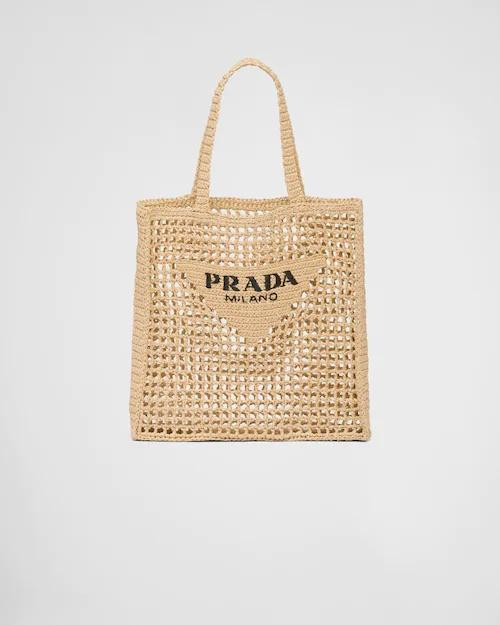PRADA: (174, 255, 326, 345)
